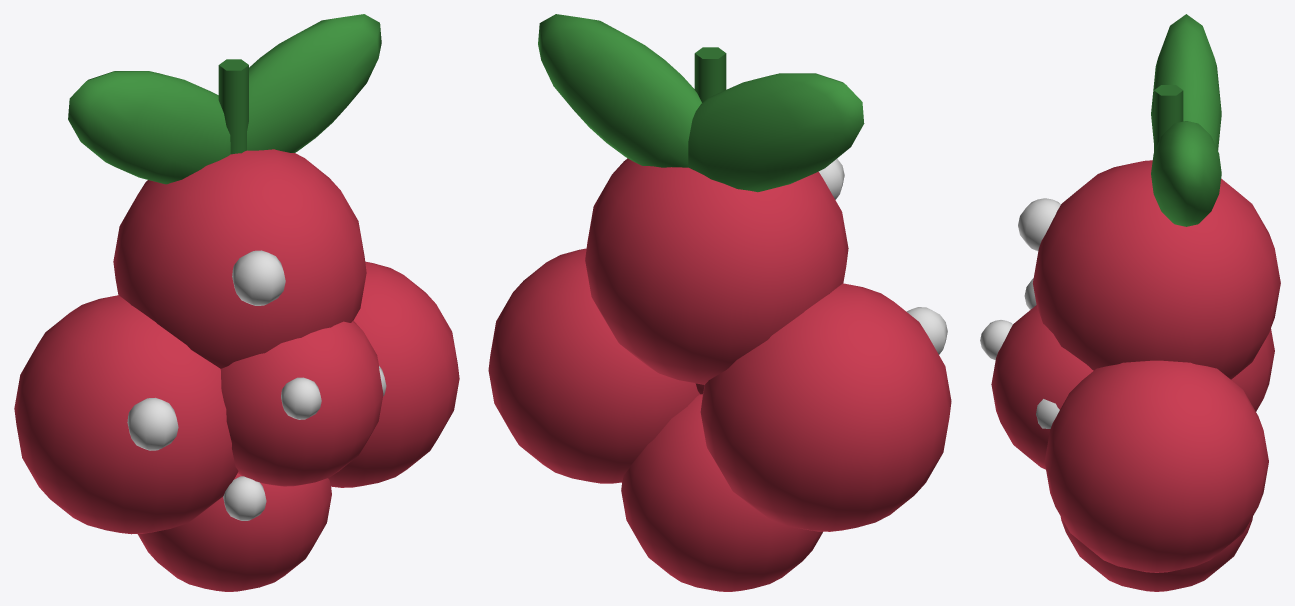
The model's file is mat_berry.glb.
3 views of the same model, side by side, from view 1: azimuth 30°, elevation 25°; view 2: azimuth 150°, elevation 25°; view 3: azimuth 270°, elevation 25° (orthographic). The views are drawn at different scales.
Parts seen in each view (by area): view 1: _cyl; view 2: _cyl; view 3: _cyl.
Boxes of the visible parts, left/top/right/bottom form: _cyl: left=14, top=14, right=459, bottom=591; _cyl: left=488, top=14, right=951, bottom=591; _cyl: left=980, top=14, right=1280, bottom=591.
Size of the model in its own units: 0.79 by 0.9537 by 0.5092.
